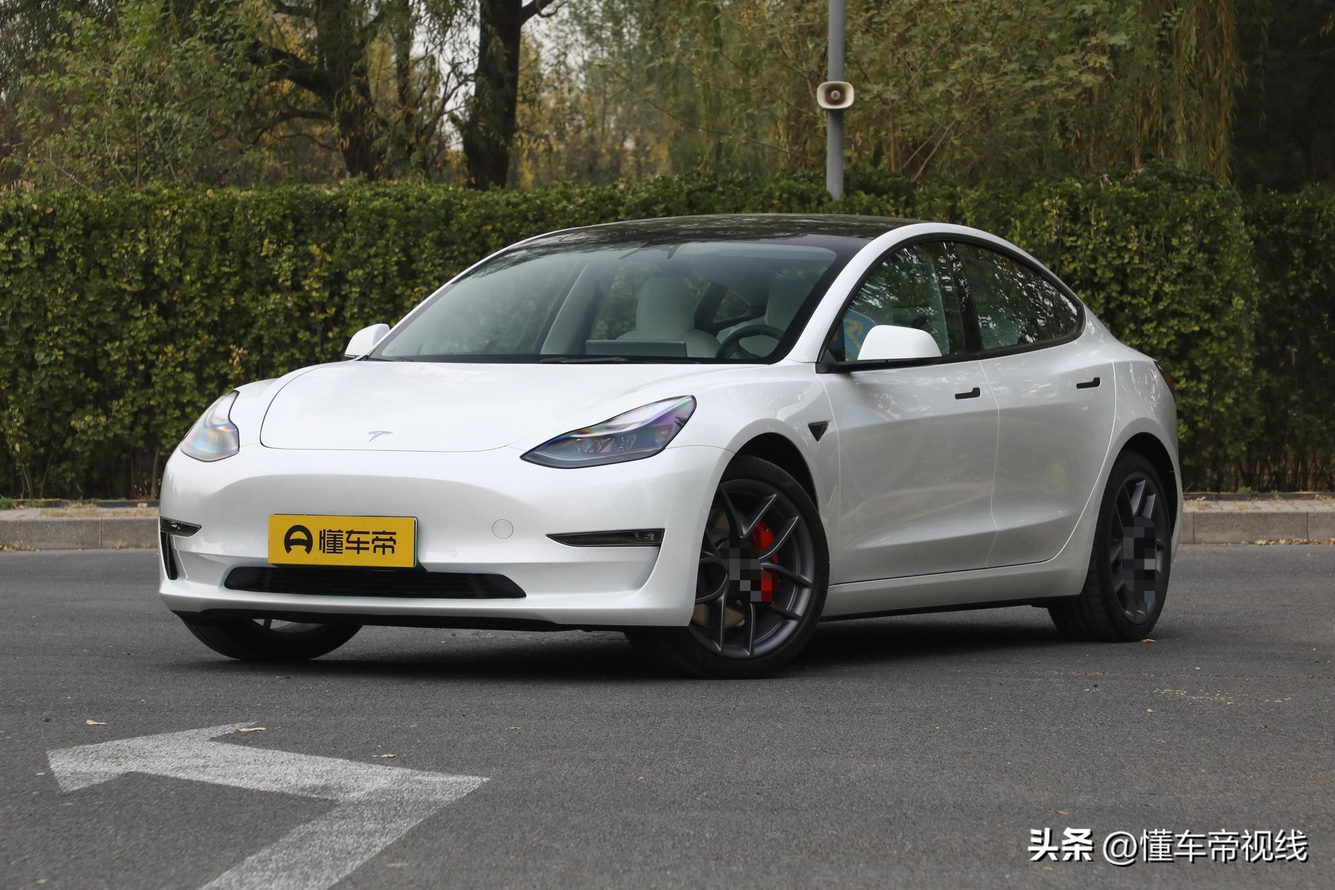Tesla: (367, 430, 392, 443)
